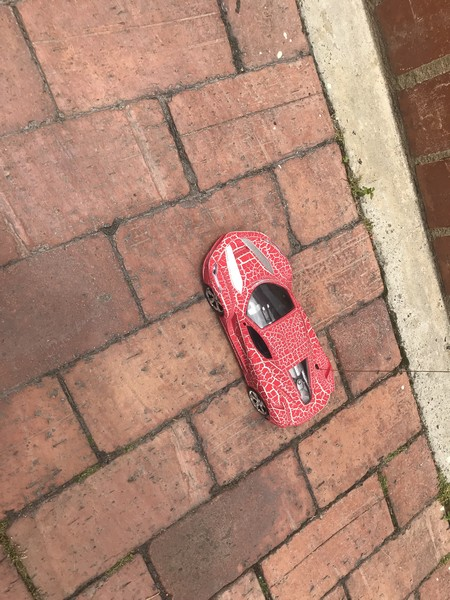RC: (198, 228, 338, 430)
